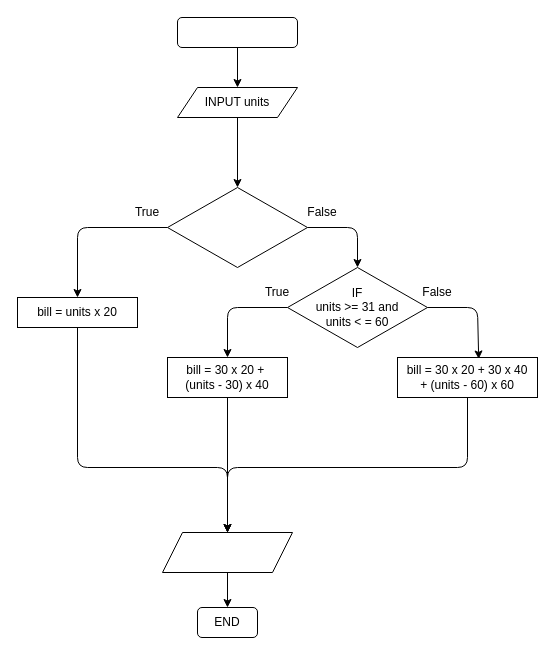
This 555x655 diagram has some shape labels left out. Each missing label, with the centre of its shape:
"IF units >= 1 and units <= 30" belongs at pixel 237 227.
"PRINT units PRINT bill" belongs at pixel 227 552.
"START" belongs at pixel 237 32.
